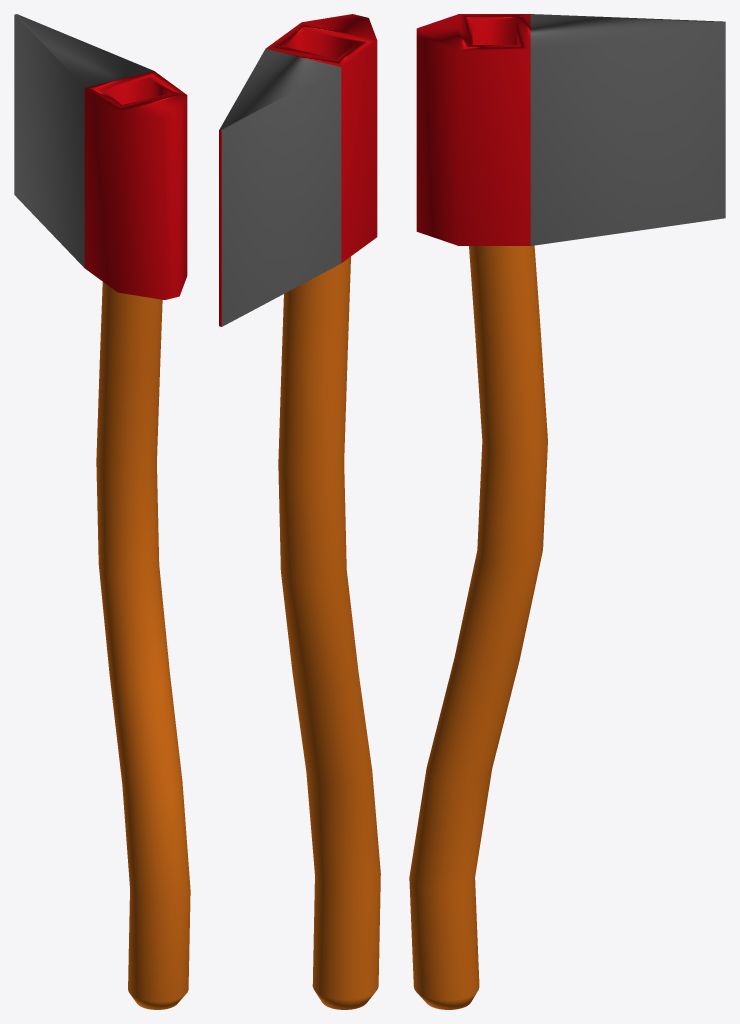
The model's file is zokomfes.fbx.
3 views of the same model, side by side, from view 1: azimuth 30°, elevation 25°; view 2: azimuth 150°, elevation 25°; view 3: azimuth 270°, elevation 25° (orthographic). The views are drawn at different scales.
Visible parts, largest first — view 1: Cylinder; view 2: Cylinder; view 3: Cylinder.
Part boxes in pixels (left/top/right/bottom): Cylinder: left=14, top=14, right=190, bottom=1009; Cylinder: left=219, top=14, right=380, bottom=1009; Cylinder: left=409, top=14, right=725, bottom=1009.
Size of the model in its own units: 265 by 3260 by 963.
